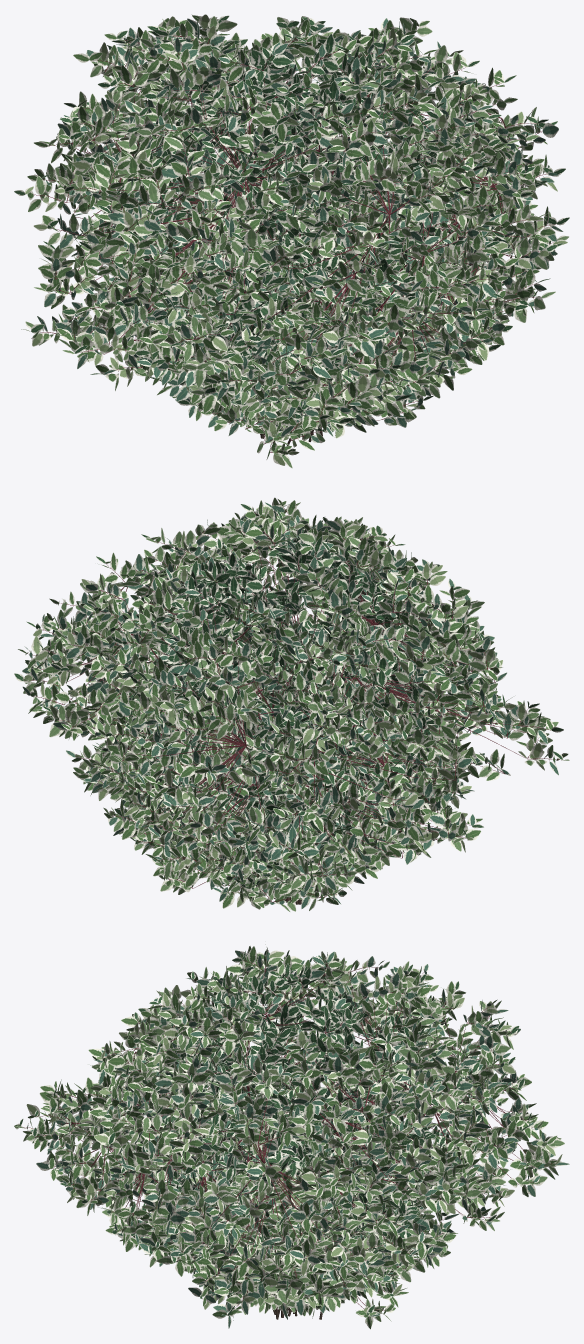
The model's file is dogwood-elegantissima-forma-original.glb.
3 renders of one model, top to bottom at view 1: azimuth 30°, elevation 25°; view 2: azimuth 150°, elevation 25°; view 3: azimuth 270°, elevation 25°, orthographic. The views are drawn at different scales.
Parts seen in each view (by area): view 1: DOGWOOD_NATURAL-burgundy, DOGWOOD_NATURAL-copper, DOGWOOD_NATURAL-dusk, DOGWOOD_NATURAL-ruby, DOGWOOD_NATURAL-olive, DOGWOOD_NATURAL-plum, DOGWOOD_NATURAL-twig, DOGWOOD_SPHERE-burgundy, DOGWOOD_BOX-burgundy, DOGWOOD_SPHERE-copper, DOGWOOD_BOX-copper, DOGWOOD_SPHERE-dusk (+4 smaller); view 2: DOGWOOD_NATURAL-burgundy, DOGWOOD_NATURAL-copper, DOGWOOD_NATURAL-dusk, DOGWOOD_NATURAL-olive, DOGWOOD_NATURAL-ruby, DOGWOOD_NATURAL-plum, DOGWOOD_NATURAL-twig, DOGWOOD_SPHERE-burgundy, DOGWOOD_BOX-burgundy, DOGWOOD_BOX-copper, DOGWOOD_SPHERE-copper, DOGWOOD_SPHERE-dusk (+4 smaller); view 3: DOGWOOD_NATURAL-burgundy, DOGWOOD_NATURAL-copper, DOGWOOD_NATURAL-dusk, DOGWOOD_NATURAL-olive, DOGWOOD_NATURAL-ruby, DOGWOOD_NATURAL-plum, DOGWOOD_NATURAL-twig, DOGWOOD_SPHERE-burgundy, DOGWOOD_SPHERE-copper, DOGWOOD_BOX-burgundy, DOGWOOD_SPHERE-dusk, DOGWOOD_BOX-dusk (+3 smaller).
Boxes of the visible parts, bbox=[...] form: DOGWOOD_NATURAL-burgundy: bbox=[27, 14, 555, 432]; DOGWOOD_NATURAL-copper: bbox=[25, 16, 568, 433]; DOGWOOD_NATURAL-dusk: bbox=[37, 18, 563, 436]; DOGWOOD_NATURAL-ruby: bbox=[14, 16, 563, 423]; DOGWOOD_NATURAL-olive: bbox=[21, 14, 567, 421]; DOGWOOD_NATURAL-plum: bbox=[43, 15, 569, 423]; DOGWOOD_NATURAL-twig: bbox=[34, 26, 555, 422]; DOGWOOD_SPHERE-burgundy: bbox=[126, 145, 442, 427]; DOGWOOD_BOX-burgundy: bbox=[188, 229, 425, 459]; DOGWOOD_SPHERE-copper: bbox=[124, 143, 437, 425]; DOGWOOD_BOX-copper: bbox=[188, 246, 412, 468]; DOGWOOD_SPHERE-dusk: bbox=[153, 147, 403, 430]; DOGWOOD_NATURAL-burgundy: bbox=[18, 499, 568, 893]; DOGWOOD_NATURAL-copper: bbox=[23, 497, 569, 889]; DOGWOOD_NATURAL-dusk: bbox=[22, 502, 558, 893]; DOGWOOD_NATURAL-olive: bbox=[22, 504, 549, 887]; DOGWOOD_NATURAL-ruby: bbox=[14, 509, 563, 881]; DOGWOOD_NATURAL-plum: bbox=[25, 504, 563, 874]; DOGWOOD_NATURAL-twig: bbox=[27, 508, 561, 880]; DOGWOOD_SPHERE-burgundy: bbox=[138, 638, 414, 892]; DOGWOOD_BOX-burgundy: bbox=[153, 708, 392, 908]; DOGWOOD_BOX-copper: bbox=[152, 741, 407, 911]; DOGWOOD_SPHERE-copper: bbox=[139, 631, 405, 892]; DOGWOOD_SPHERE-dusk: bbox=[150, 634, 412, 890]; DOGWOOD_NATURAL-burgundy: bbox=[14, 946, 560, 1307]; DOGWOOD_NATURAL-copper: bbox=[15, 946, 564, 1313]; DOGWOOD_NATURAL-dusk: bbox=[27, 950, 569, 1319]; DOGWOOD_NATURAL-olive: bbox=[26, 944, 562, 1304]; DOGWOOD_NATURAL-ruby: bbox=[34, 951, 536, 1293]; DOGWOOD_NATURAL-plum: bbox=[19, 950, 531, 1296]; DOGWOOD_NATURAL-twig: bbox=[21, 954, 551, 1304]; DOGWOOD_SPHERE-burgundy: bbox=[178, 1062, 438, 1316]; DOGWOOD_SPHERE-copper: bbox=[178, 1063, 434, 1315]; DOGWOOD_BOX-burgundy: bbox=[197, 1134, 408, 1329]; DOGWOOD_SPHERE-dusk: bbox=[162, 1074, 430, 1296]; DOGWOOD_BOX-dusk: bbox=[188, 1169, 399, 1328].
Size of the model in its own units: 3.36 by 2.3 by 3.42.
Materials: 8 (8 with a texture image).
